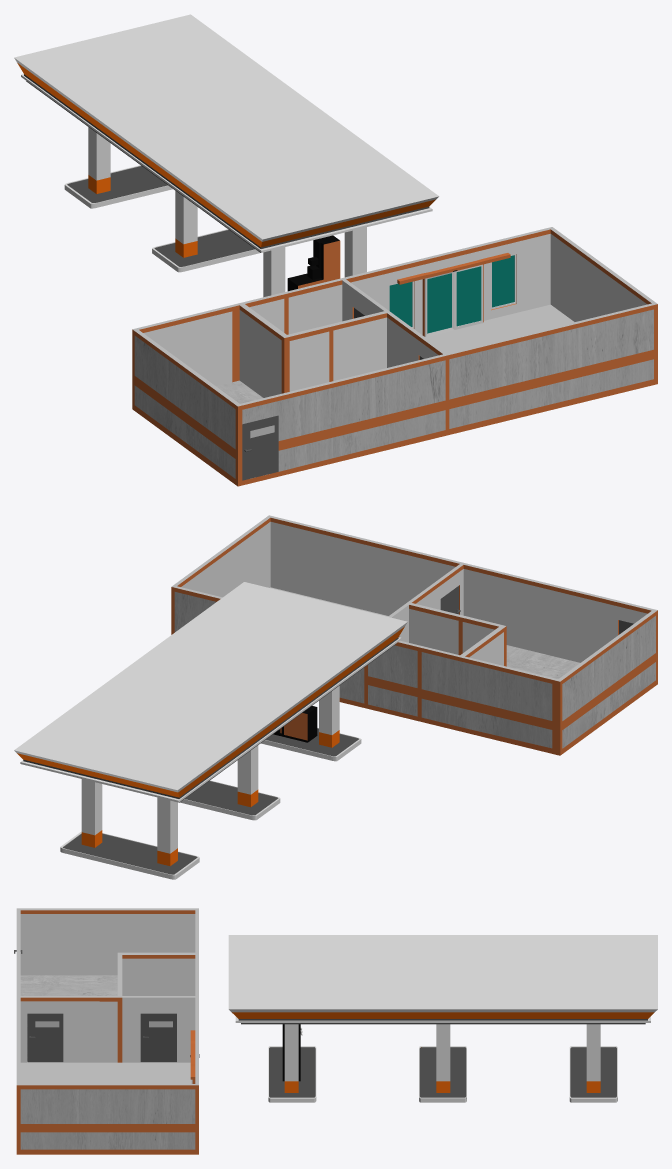
The picture shows the model from 3 angles, top to bottom: view 1: azimuth 30°, elevation 25°; view 2: azimuth 150°, elevation 25°; view 3: azimuth 270°, elevation 25°; orthographic projection. The views are drawn at different scales.
Visible parts, largest first — view 1: МАГАЗИН, заправка, окна, дверь на улицу, дверь.002, дверь.003, заправочные калонки.002; view 2: МАГАЗИН, заправка, заправочные калонки.002; view 3: заправка, МАГАЗИН, дверь на склад, дверь в комнату охраника.
Boxes of the visible parts, x1,y1,x2,y2 form: МАГАЗИН: (132,227,657,486); заправка: (14,14,438,297); окна: (388,254,516,328); дверь на улицу: (242,415,278,480); дверь.002: (424,271,454,336); дверь.003: (454,264,483,329); заправочные калонки.002: (287,235,340,291); МАГАЗИН: (171,515,657,755); заправка: (14,582,407,879); заправочные калонки.002: (273,706,317,742); заправка: (228,935,657,1102); МАГАЗИН: (16,908,199,1154); дверь на склад: (27,1013,63,1062); дверь в комнату охраника: (140,1013,176,1062).
Bounding box in the file's own units: 21767 × 6006 × 33463.
